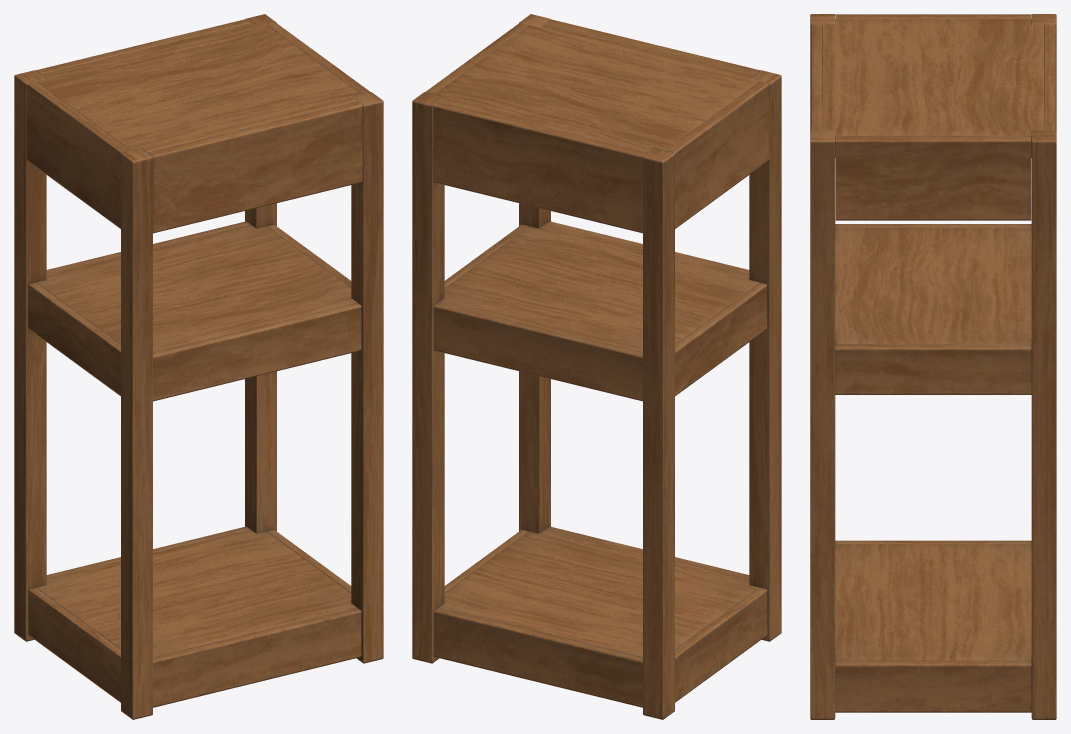
File: end_table.glb
3 renders of one model, left to right at view 1: azimuth 30°, elevation 25°; view 2: azimuth 150°, elevation 25°; view 3: azimuth 270°, elevation 25°, orthographic. The views are drawn at different scales.
Parts seen in each view (by area): view 1: side_table_01.001; view 2: side_table_01.001; view 3: side_table_01.001.
Part boxes in pixels (x1,y1,x2,y2): side_table_01.001: (14,14,383,719); side_table_01.001: (412,14,781,719); side_table_01.001: (810,14,1056,719).
Bounding box in the file's own units: 12.74 × 27.1 × 10.42.
Materials: 1 (1 with a texture image).
